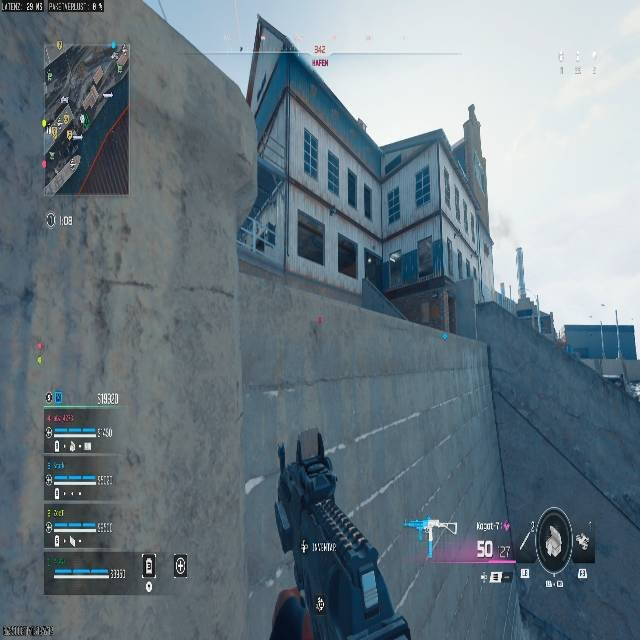player: (256, 221, 276, 250)
